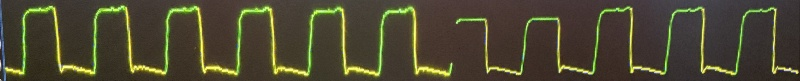normal_pressure: (2, 1, 800, 81)
